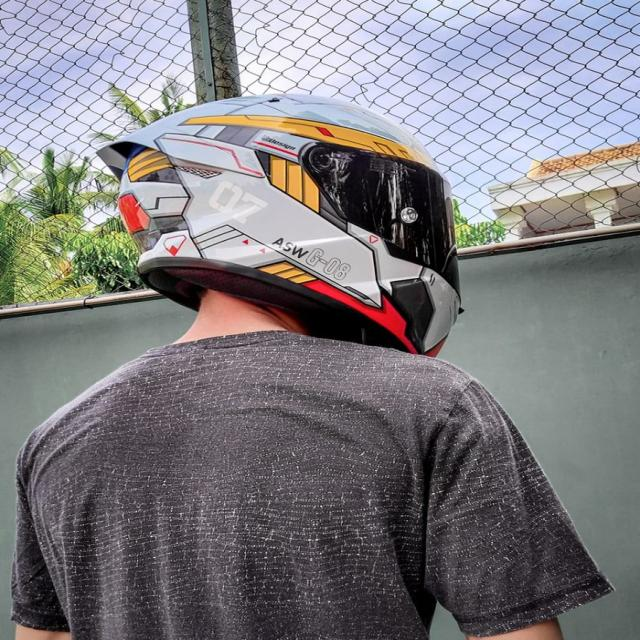Helm: (88, 88, 464, 357)
